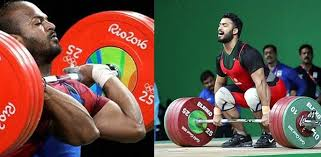Indian_Male: (211, 13, 242, 51)
